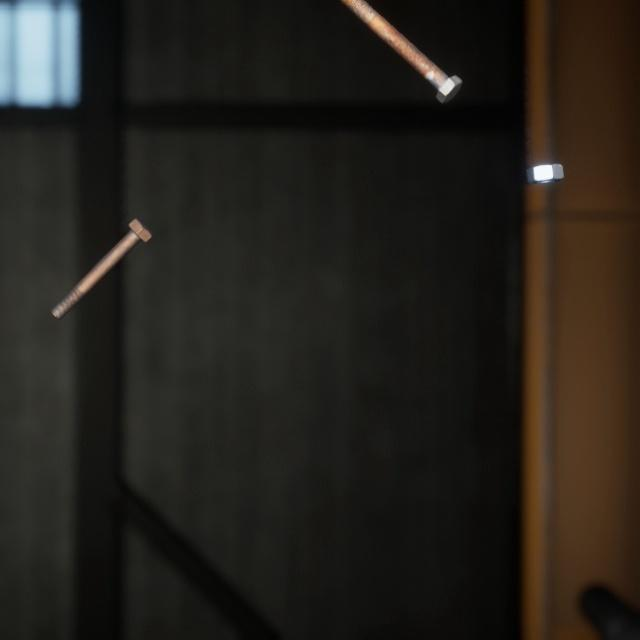bolt: (46, 196, 158, 307), (342, 0, 466, 99)
nut: (522, 145, 568, 174)
